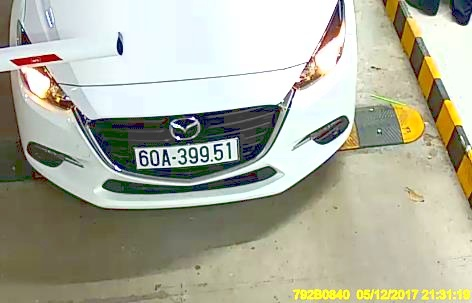plate: (132, 140, 240, 167)
